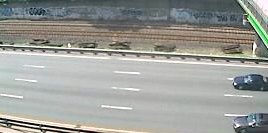car: (232, 71, 268, 96), (229, 110, 268, 132)
